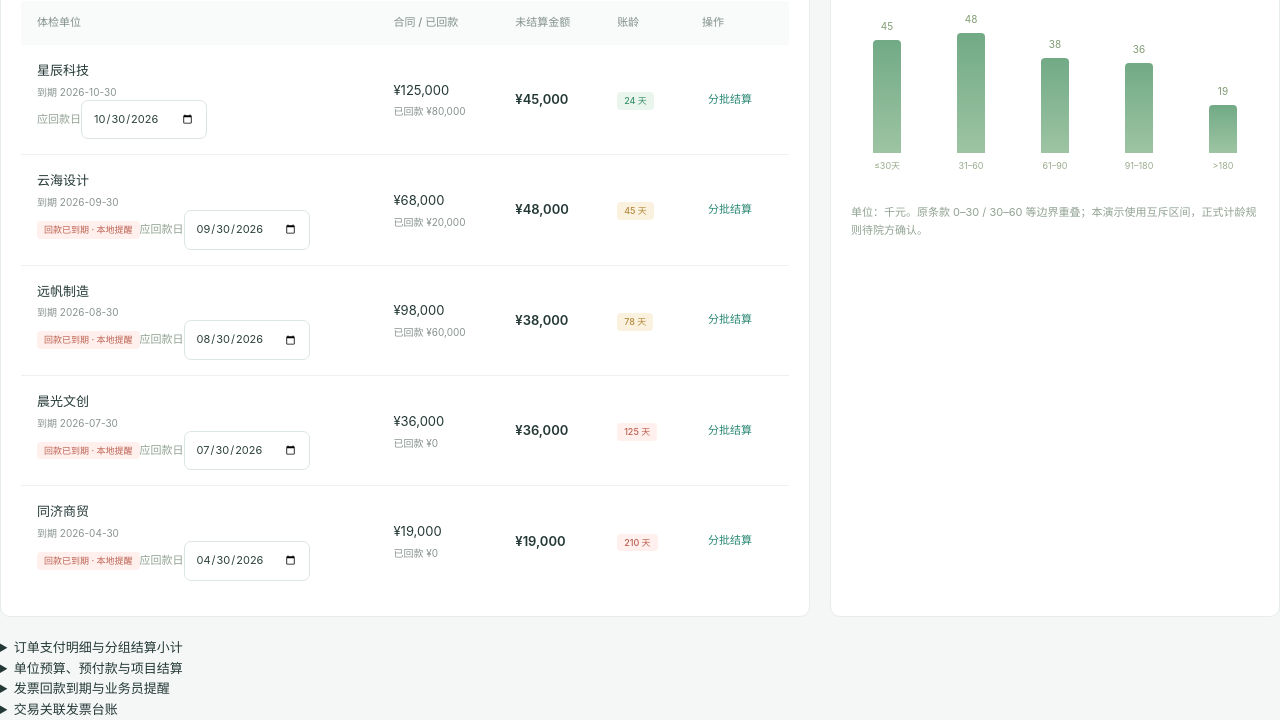
Test case: atomic ordering and clinical details › O20 the finance page mounts real invoice-reminder controls
The image size is (1280, 720).
(page scrolled)
Step 1. Click the heading "发票回款到期与业务员提醒" → (92,688), box 14,680 -> 170,696
(page scrolled)
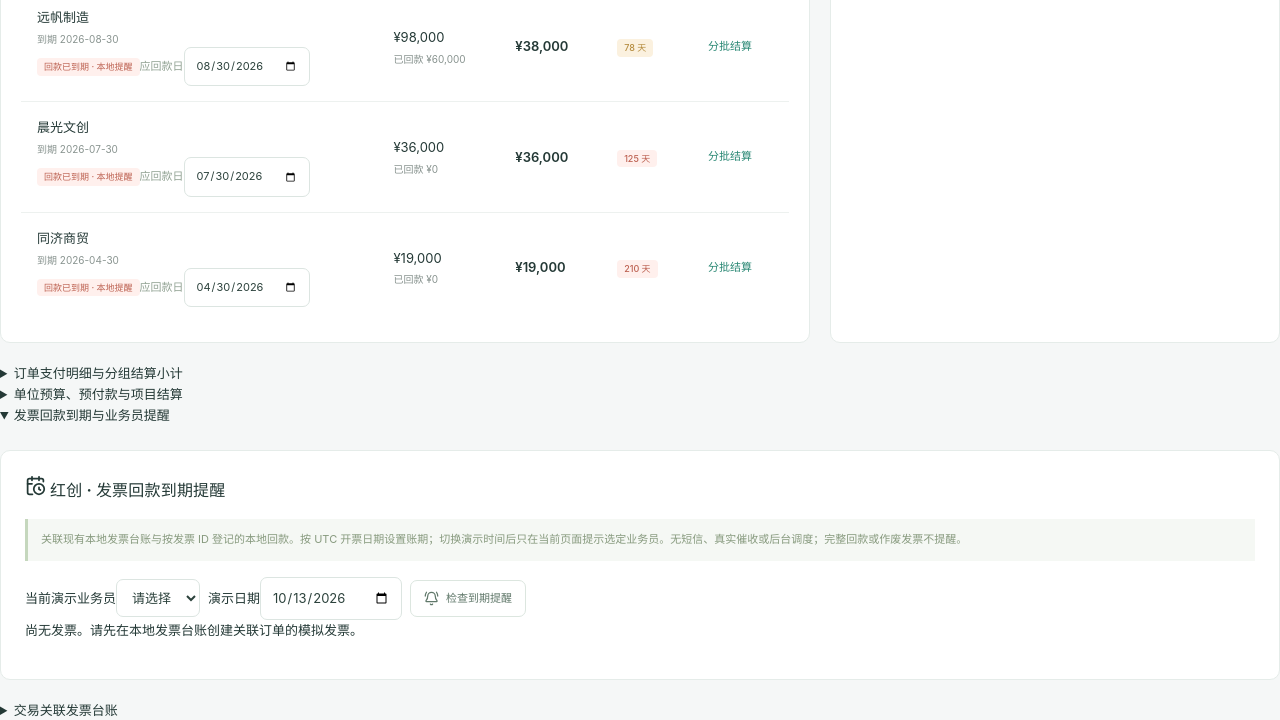
Expected: the date field named "发票提醒演示日期" is shown, 260,577 -> 402,620
